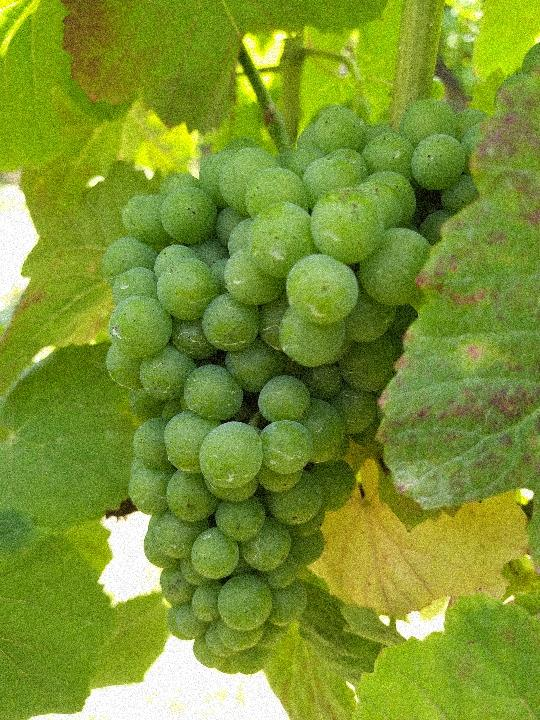grape: (101, 102, 498, 678)
